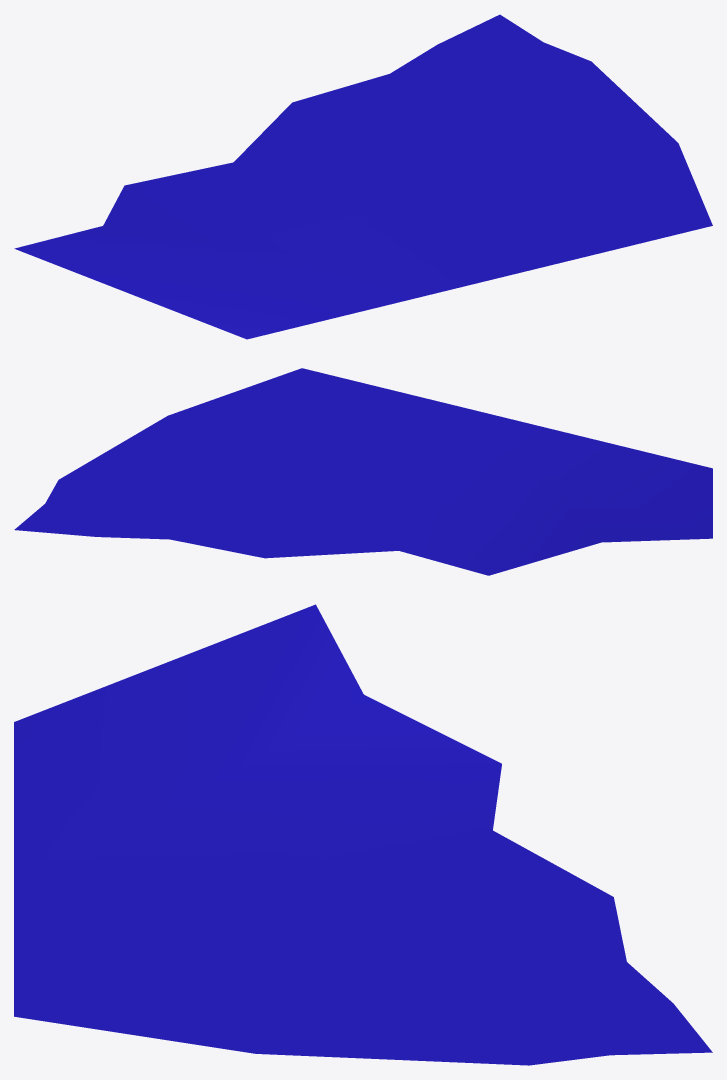
The model's file is agua1.fbx.
3 views of the same model, one above another, from view 1: azimuth 30°, elevation 25°; view 2: azimuth 150°, elevation 25°; view 3: azimuth 270°, elevation 25° (orthographic). The views are drawn at different scales.
Visible parts, largest first — view 1: Cylinder007; view 2: Cylinder007; view 3: Cylinder007.
Boxes of the visible parts, x1,y1,x2,y2 form: Cylinder007: [14, 14, 712, 339]; Cylinder007: [14, 368, 712, 575]; Cylinder007: [14, 604, 712, 1065].
Size of the model in its own units: 61.57 by 3.03 by 43.61.
